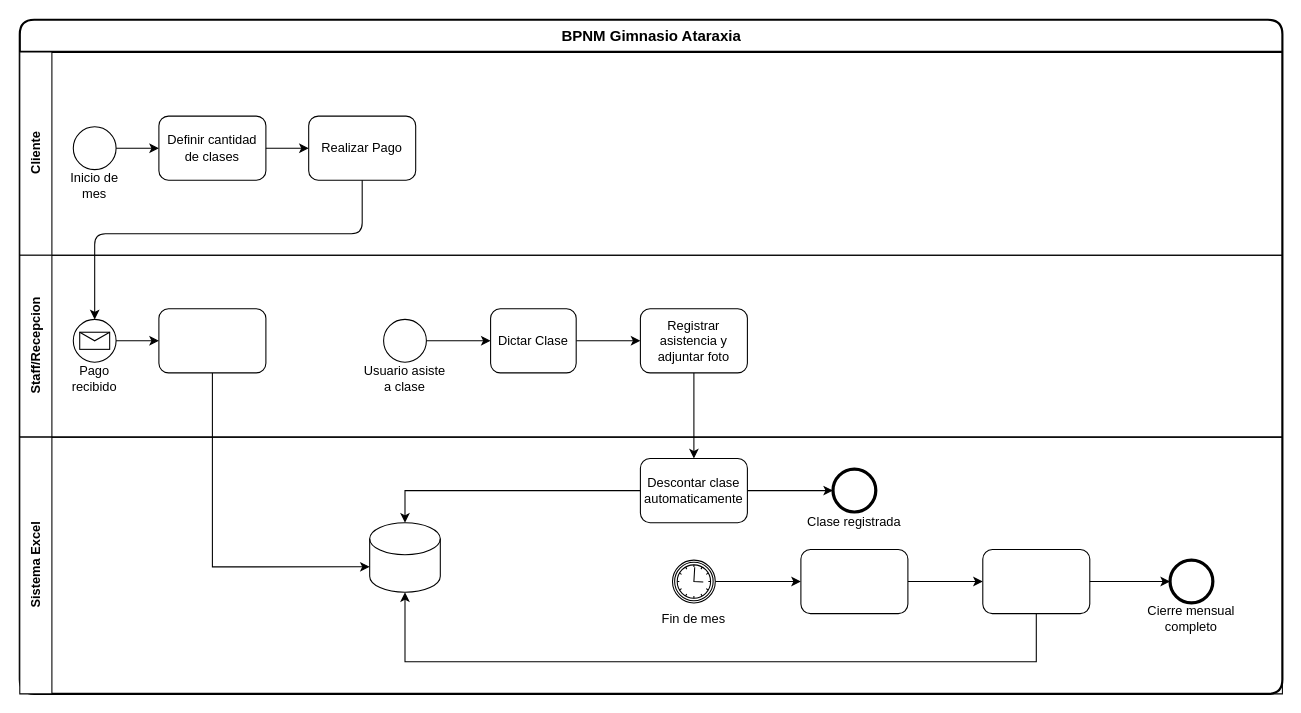
Image size: 1301x713. Some labels were removed from this diagram. The box of each missing label's shape, as (x1, y1, x2, y2) in pixels:
Archivo Excel: (369, 522, 440, 592)
Descontar clases no tomadas: (800, 548, 908, 614)
Registrar cliente con cantidad de clases: (158, 308, 266, 373)
Reiniciar archivo para nuevo ciclo: (982, 548, 1090, 614)
